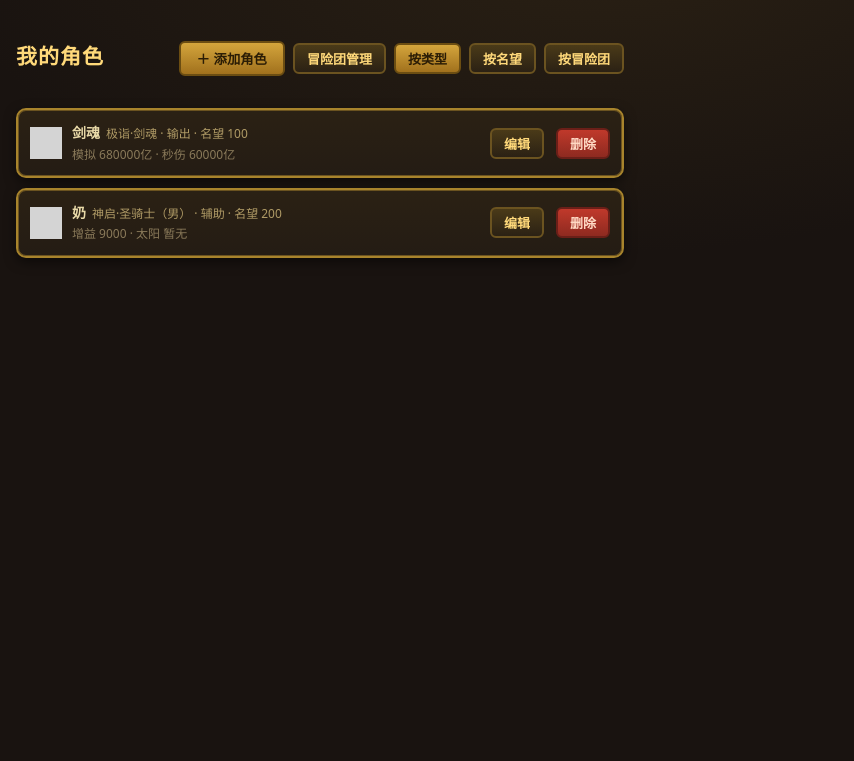
it: MyCharactersView job picker › edit form renders inline right below the edited card
The image size is (854, 761).
What coordinates should you click on to do the following:
click the button "编辑" in the row of "极诣·剑魂 · 输出 · 名望 100"
I would click on:
 (517, 143)
Its box is [490,128,544,159].
(page scrolled)
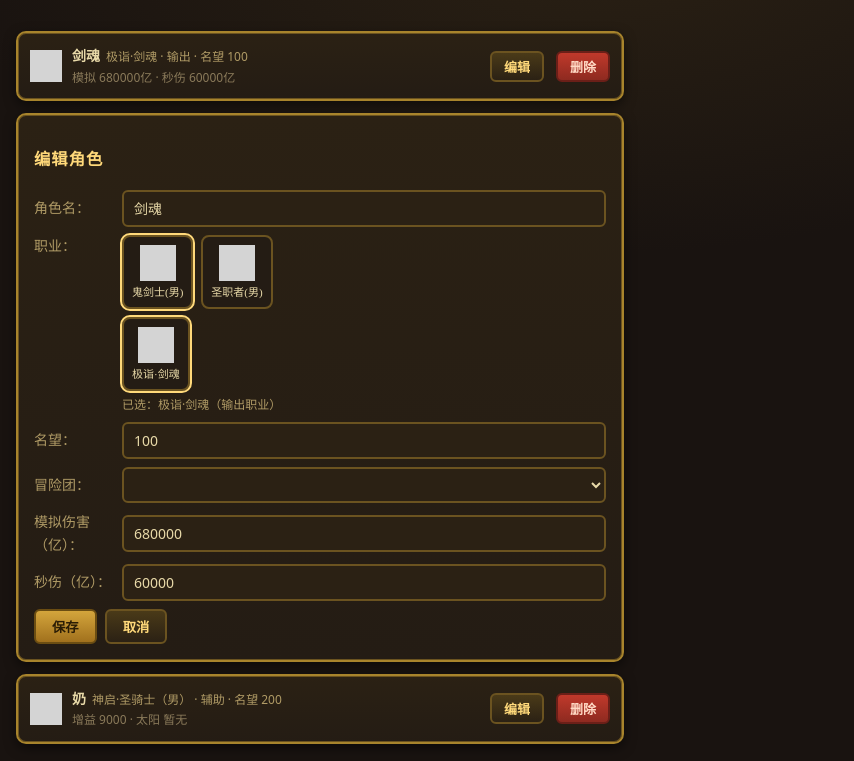
Check: the element with class "dnf-panel" shows "奶", box [72,689,86,708]
Check: the element with class "dnf-panel" shows "编辑角色", box [34,150,103,169]
